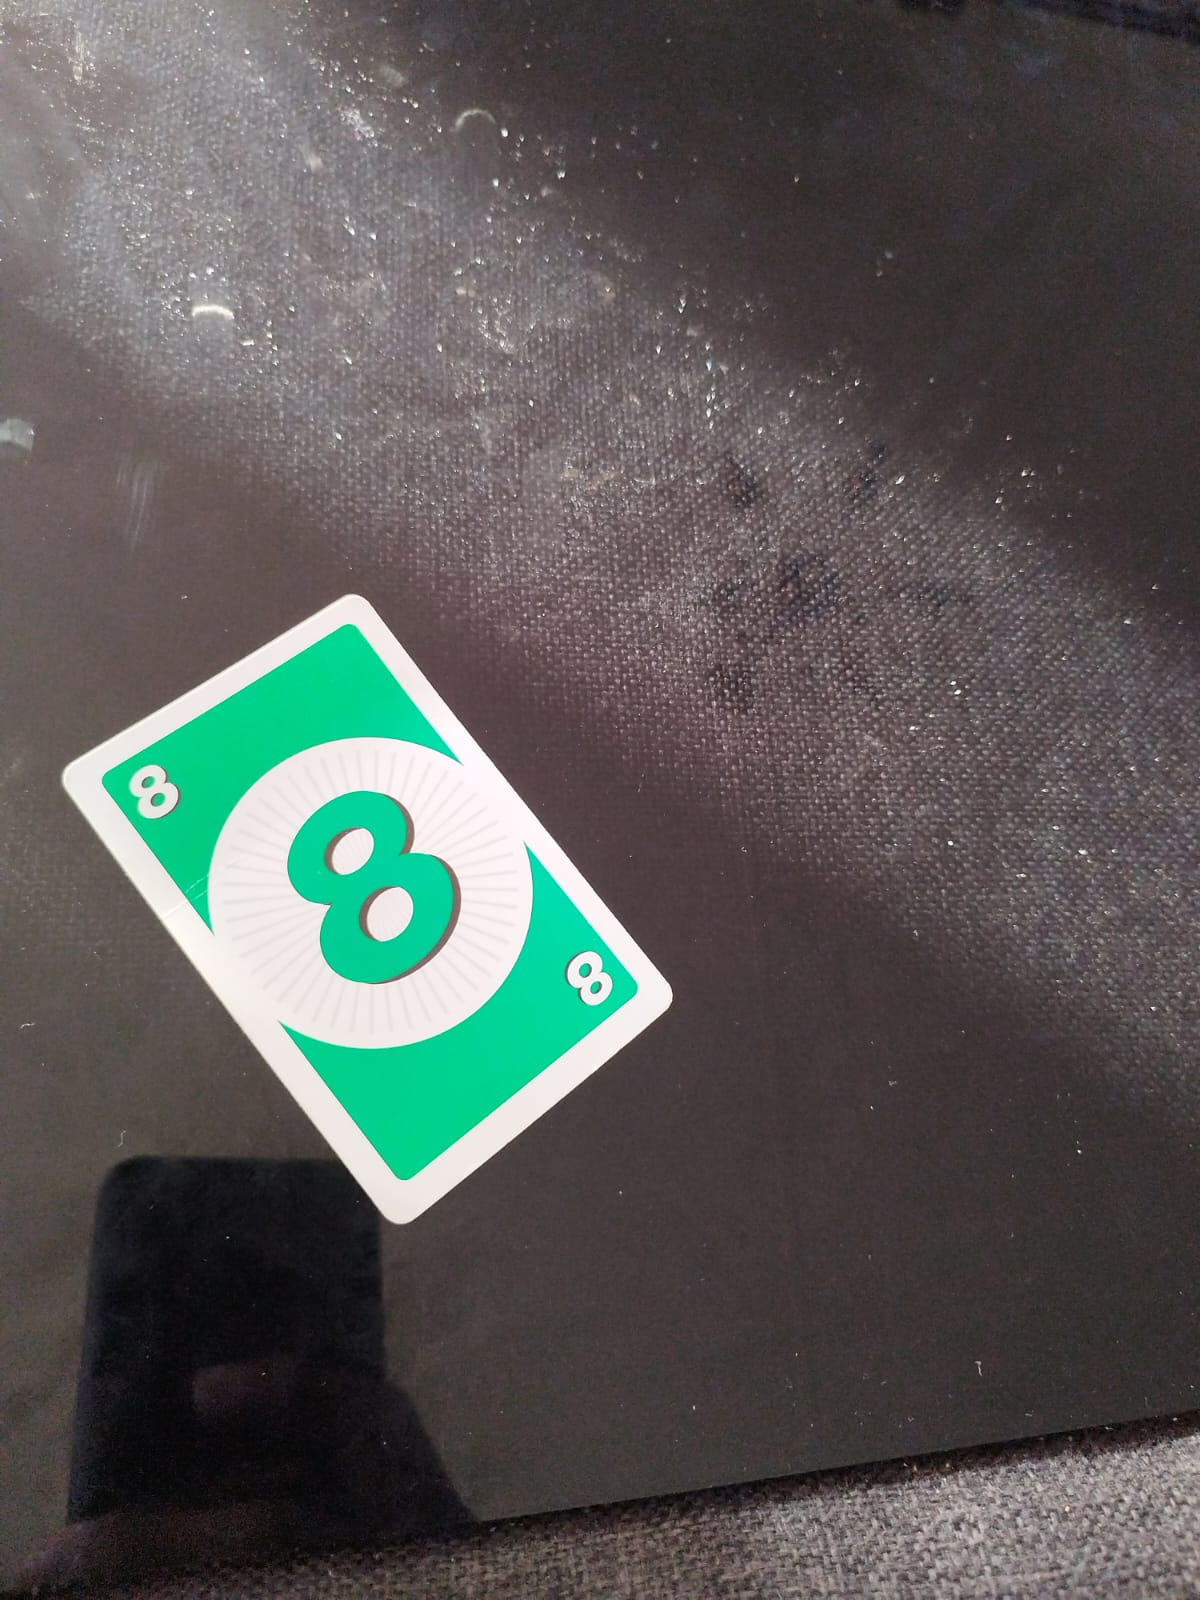1_red: (270, 774, 475, 1002), (130, 758, 187, 824), (558, 946, 615, 1012)
